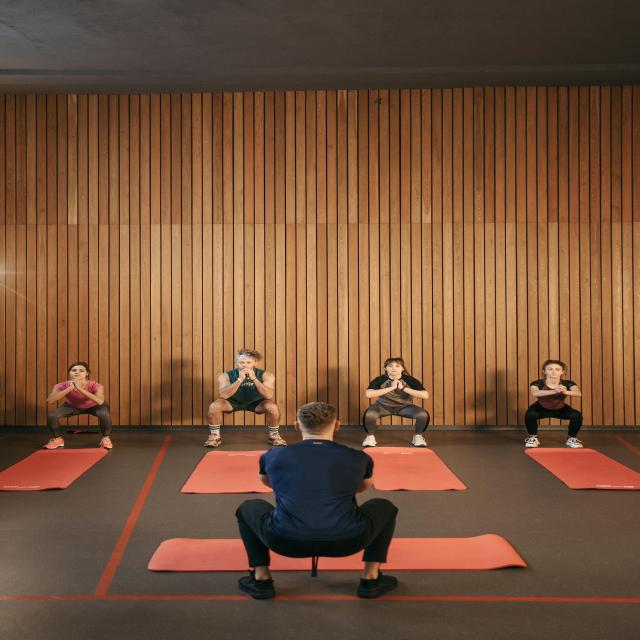sit: (228, 393, 404, 599), (189, 346, 298, 444), (348, 347, 445, 453), (505, 356, 597, 456), (46, 361, 126, 455)
